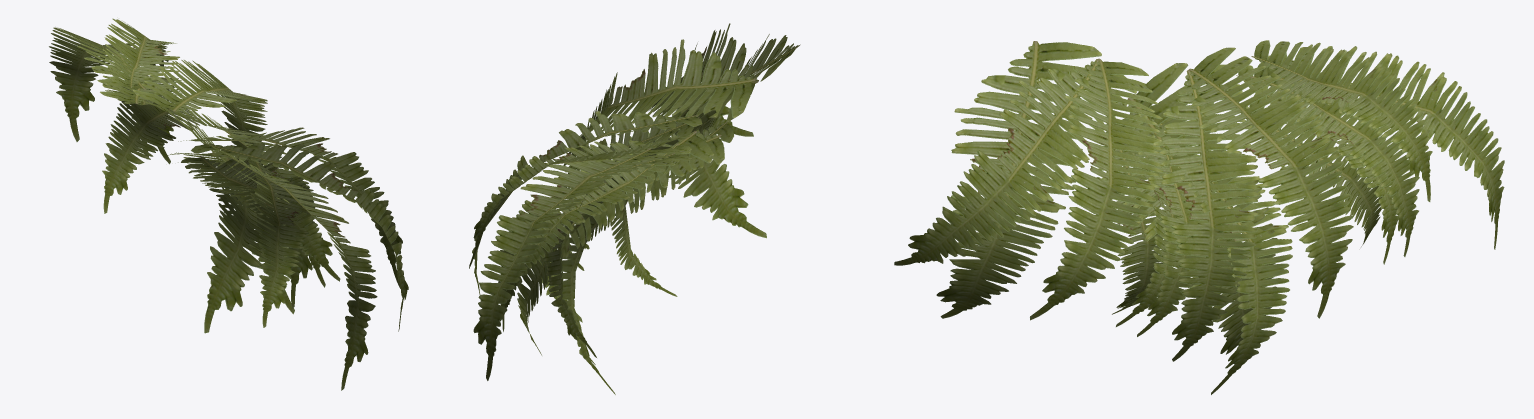
The model's file is SM_S_Soul_Plants_Fern2.c8136025.glb.
3 views of the same model, side by side, from view 1: azimuth 30°, elevation 25°; view 2: azimuth 150°, elevation 25°; view 3: azimuth 270°, elevation 25° (orthographic). The views are drawn at different scales.
Visible parts, largest first — view 1: SM_S_Soul_Plants_Fern2; view 2: SM_S_Soul_Plants_Fern2; view 3: SM_S_Soul_Plants_Fern2.
Part boxes in pixels (bbox=[...]): SM_S_Soul_Plants_Fern2: bbox=[49, 18, 408, 390]; SM_S_Soul_Plants_Fern2: bbox=[469, 23, 800, 394]; SM_S_Soul_Plants_Fern2: bbox=[894, 40, 1504, 394].
Bounding box in the file's own units: 1.85 × 2.48 × 4.53.
1 material, 1 textured.
